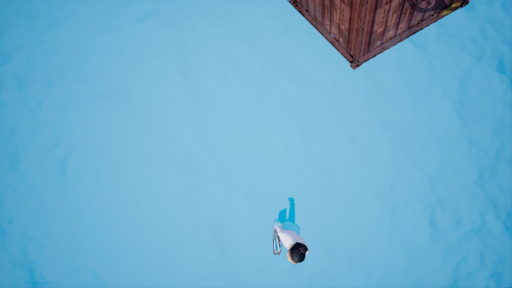person: (268, 196, 313, 268)
